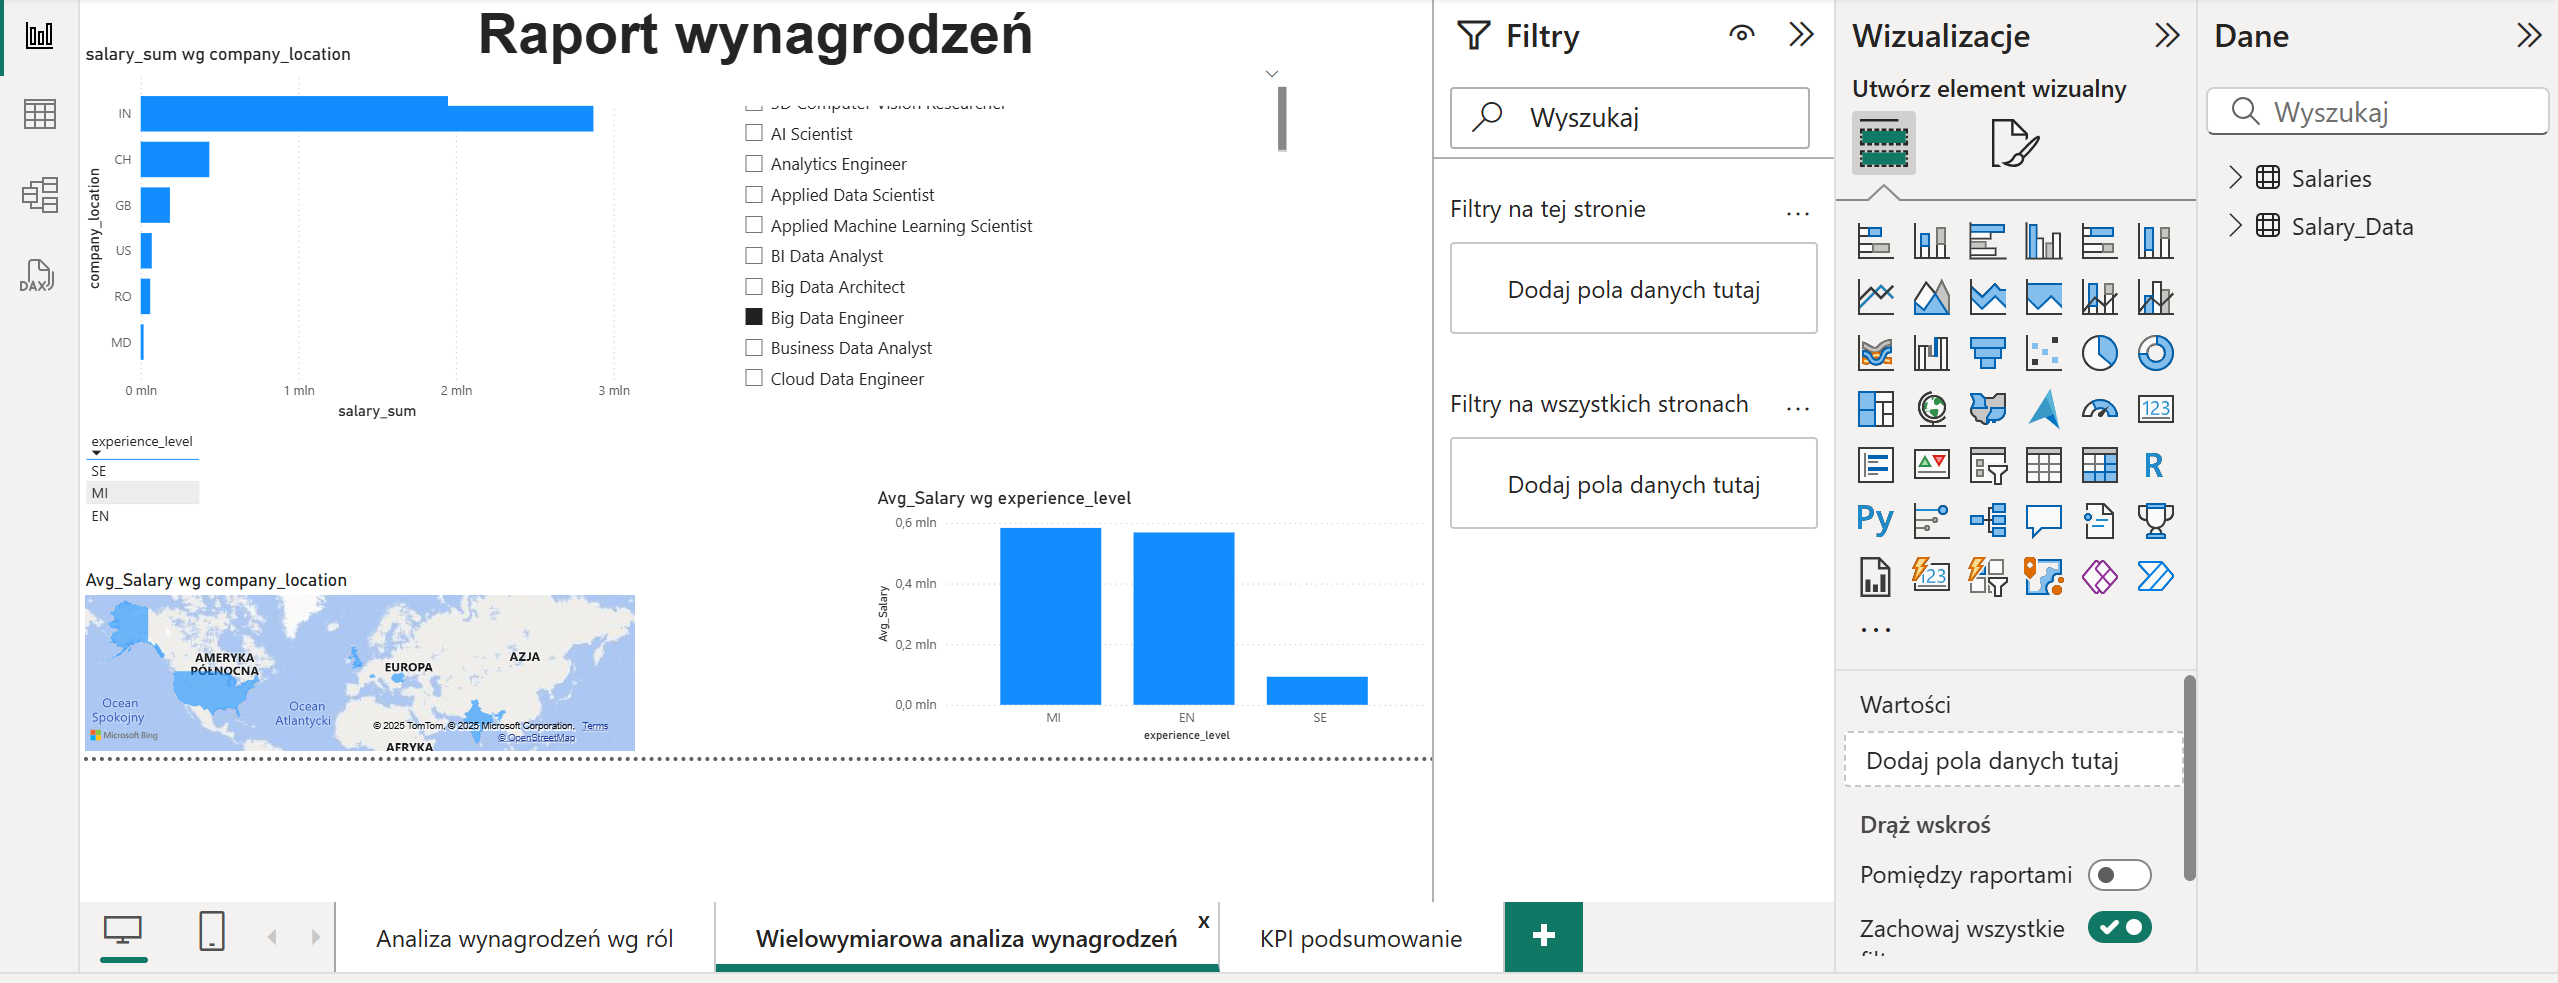

The dashboard page shown, as its layout file describes it:
{"tool":"powerbi","page":{"name":"Wielowymiarowa analiza wynagrodzeń","canvas":[1280,720],"ordinal":1},"visuals":[{"type":"clusteredBarChart","fields":{"Category":["Salaries.company_location"],"Y":["Salaries.salary_sum"]},"box":[0,45.4,530.2,359.8],"z":0},{"type":"slicer","fields":{"Values":["Salaries.job_title"]},"box":[617.3,62.5,530.2,323.8],"z":1000},{"type":"tableEx","fields":{"Values":["Salaries.experience_level"]},"box":[0,405.2,530.2,162.8],"z":2000},{"type":"columnChart","fields":{"Category":["Salaries.experience_level"],"Y":["Salaries.Avg_Salary"]},"box":[749.8,465.8,530.2,244.3],"z":3000},{"type":"filledMap","fields":{"Category":["Salaries.company_location"]},"box":[0,543.4,530.2,176.1],"z":4000},{"type":"textbox","box":[348.4,0,583.2,104.1],"z":6000}]}

Visuals, with their boxes on the page's 1280x720 design canvas (x1, y1, x2, y2). These are canvas units, not pixel positions in the 2558x983 screenshot, which may show the page scaled, cropped or inside an application window:
clusteredBarChart - Salaries.company_location x Salaries.salary_sum: rect(0, 45, 530, 405)
slicer - Salaries.job_title: rect(617, 62, 1148, 386)
tableEx - Salaries.experience_level: rect(0, 405, 530, 568)
columnChart - Salaries.experience_level x Salaries.Avg_Salary: rect(750, 466, 1280, 710)
filledMap - Salaries.company_location: rect(0, 543, 530, 720)
textbox: rect(348, 0, 932, 104)
